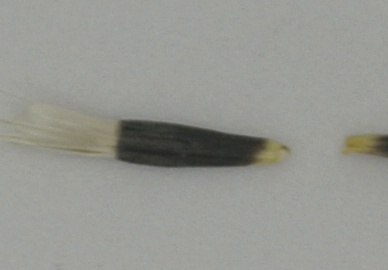เมล็ดดีติดกัน: (1, 89, 293, 172)
